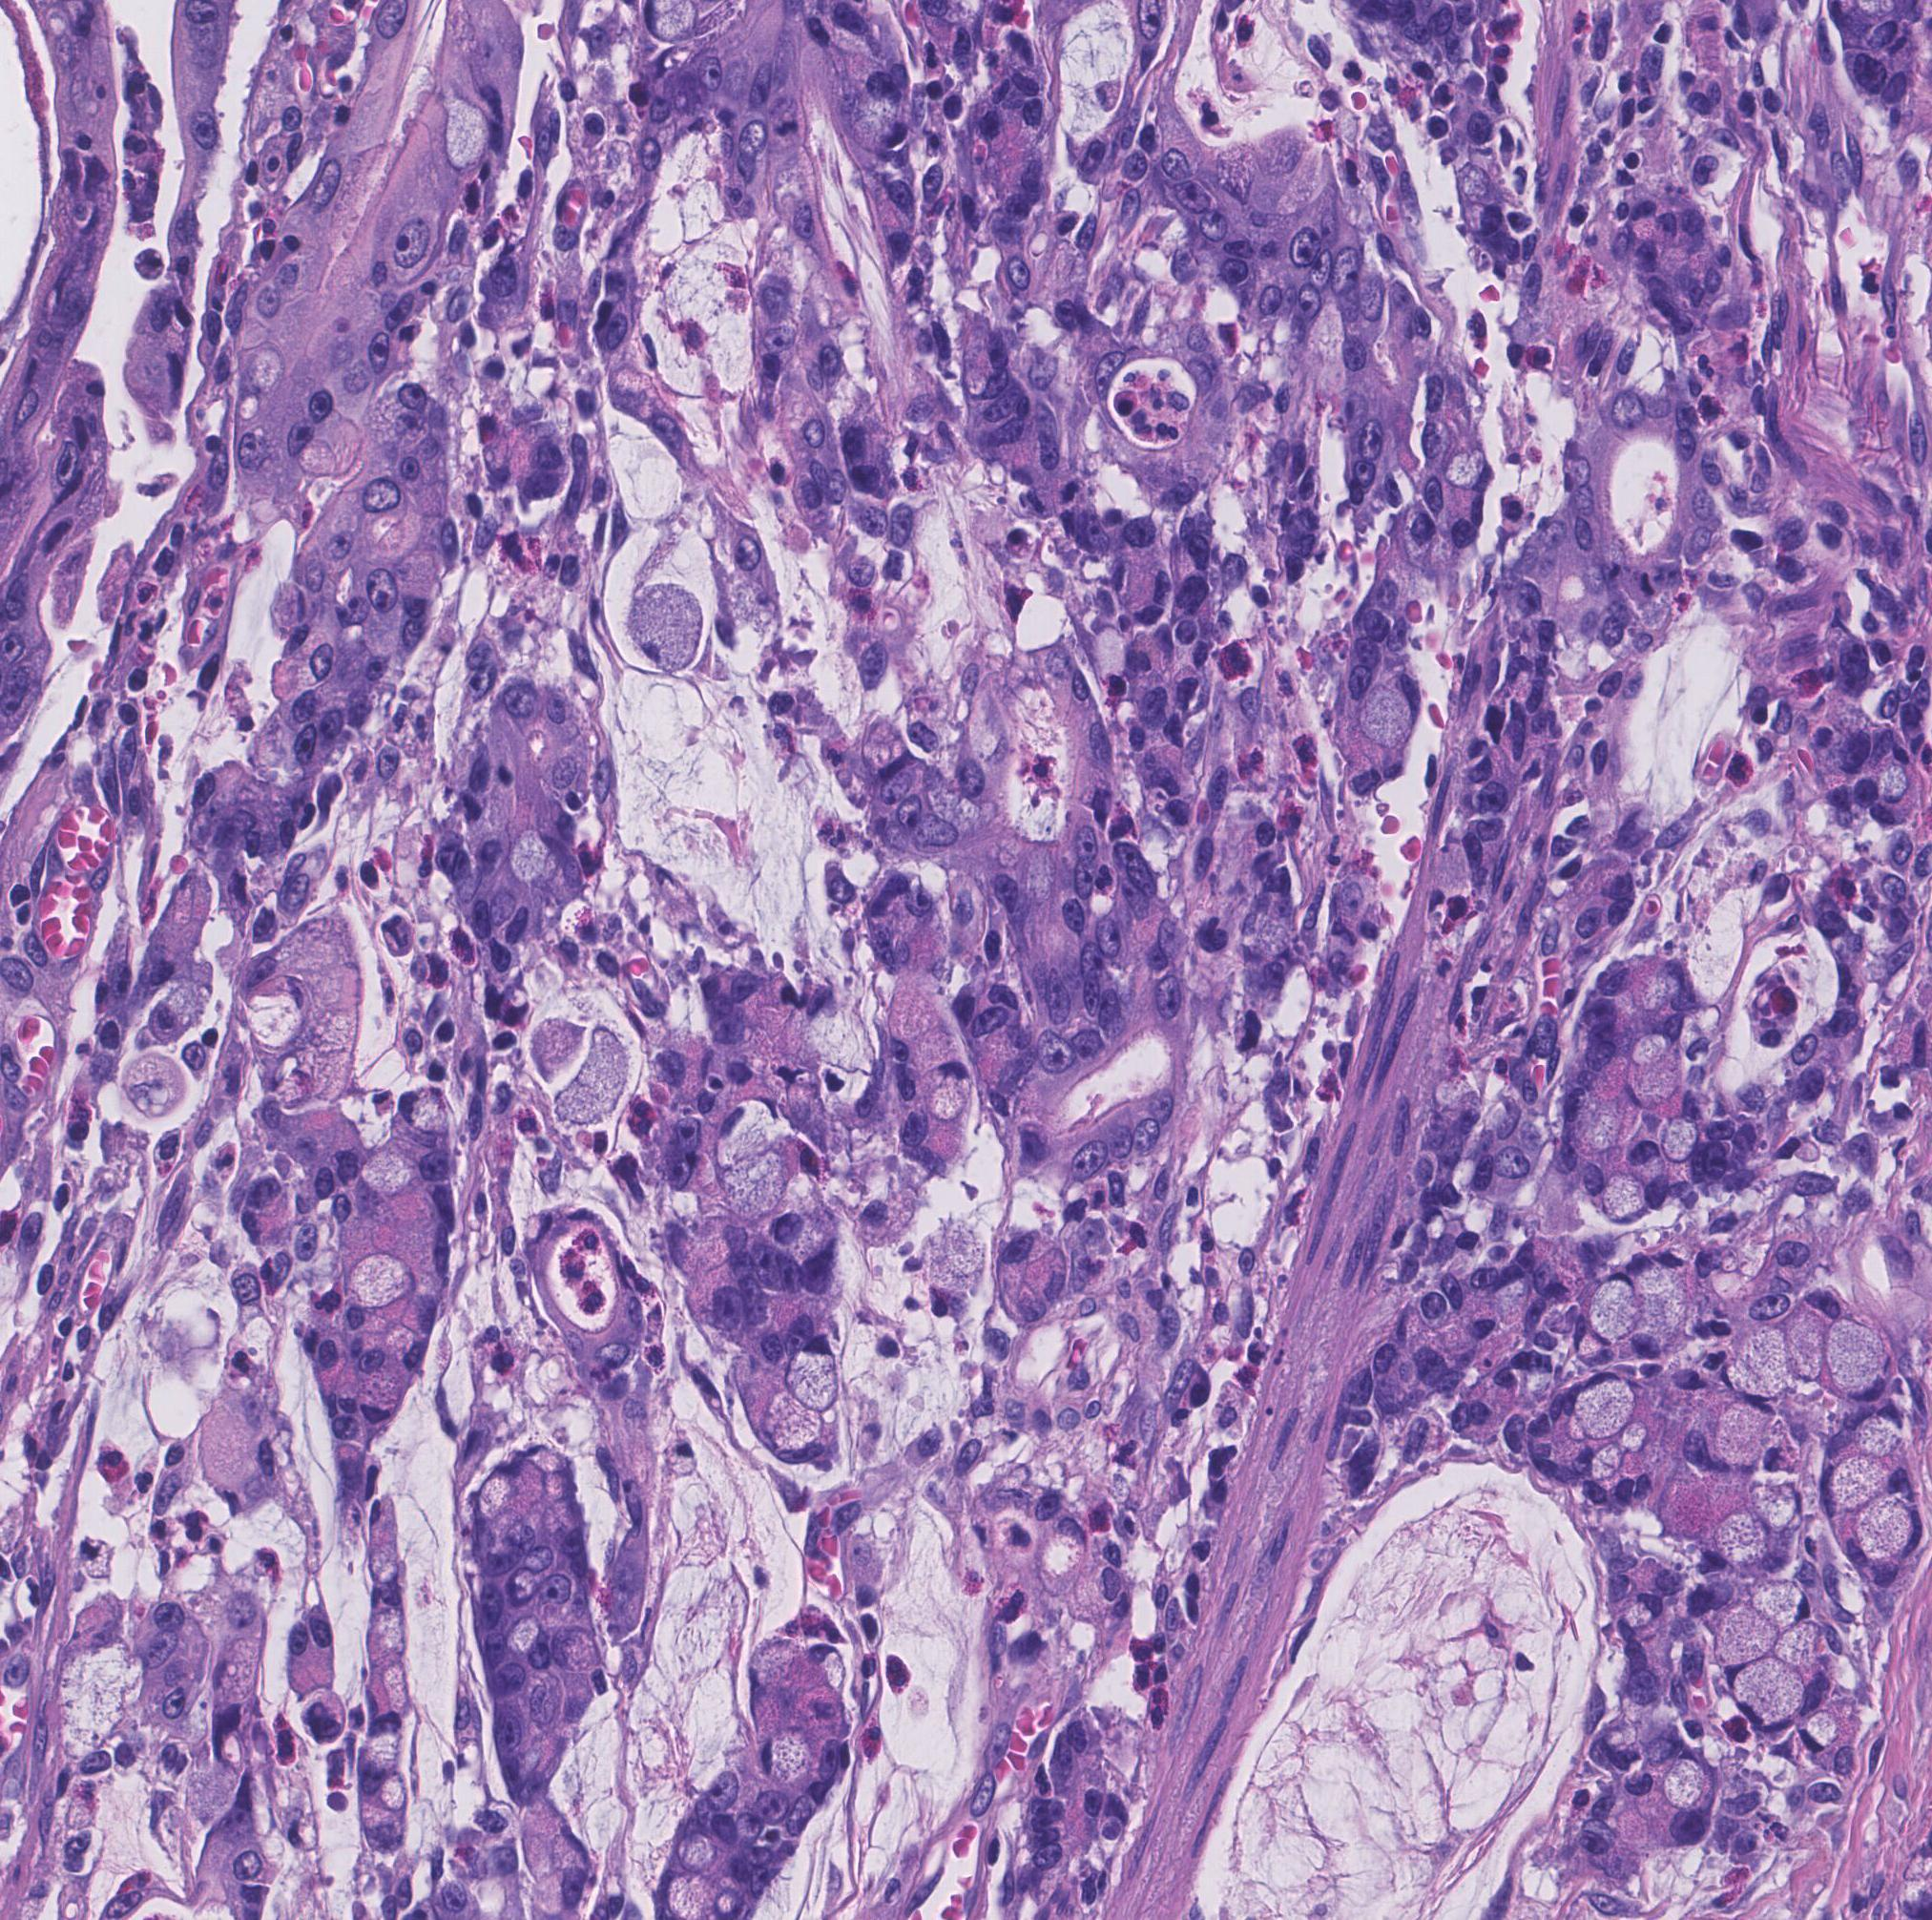ring_cell_cancer: (626, 582, 707, 675), (146, 879, 206, 992), (1825, 1319, 1892, 1400), (1793, 1284, 1844, 1389), (438, 97, 505, 174), (765, 1387, 824, 1465), (1728, 1329, 1791, 1401), (1732, 1662, 1804, 1723), (1357, 679, 1417, 751), (1037, 1514, 1088, 1595), (1860, 1502, 1925, 1565), (1570, 1378, 1635, 1442), (928, 1233, 974, 1322), (148, 985, 213, 1043), (1823, 1461, 1902, 1507), (1710, 1614, 1777, 1667), (1721, 1403, 1774, 1470), (1587, 1276, 1640, 1343), (1749, 1577, 1811, 1632), (793, 1336, 840, 1407), (1637, 960, 1691, 1015), (396, 1090, 454, 1136), (763, 1734, 814, 1785), (1858, 1407, 1911, 1456), (508, 835, 561, 879), (1445, 454, 1498, 494), (926, 1064, 969, 1113), (858, 1201, 904, 1243), (781, 1134, 821, 1182), (399, 220, 436, 271), (1607, 1176, 1651, 1218), (274, 589, 316, 633), (1663, 1118, 1702, 1164), (297, 440, 341, 478)
